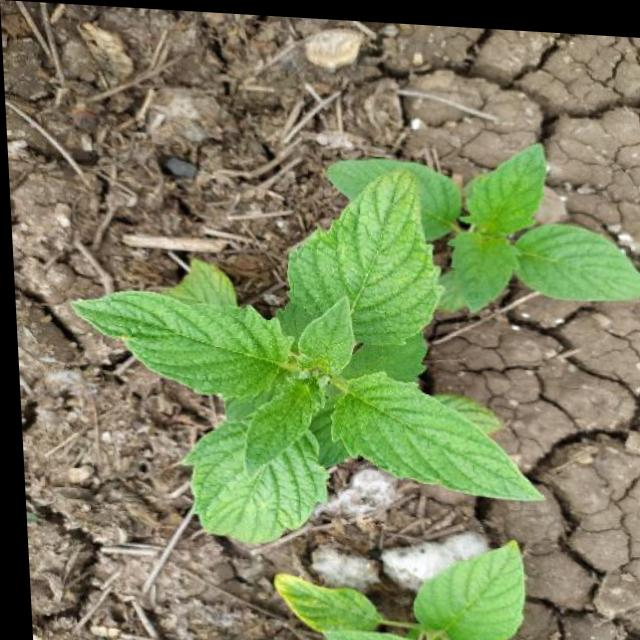crop: (47, 142, 578, 564)
